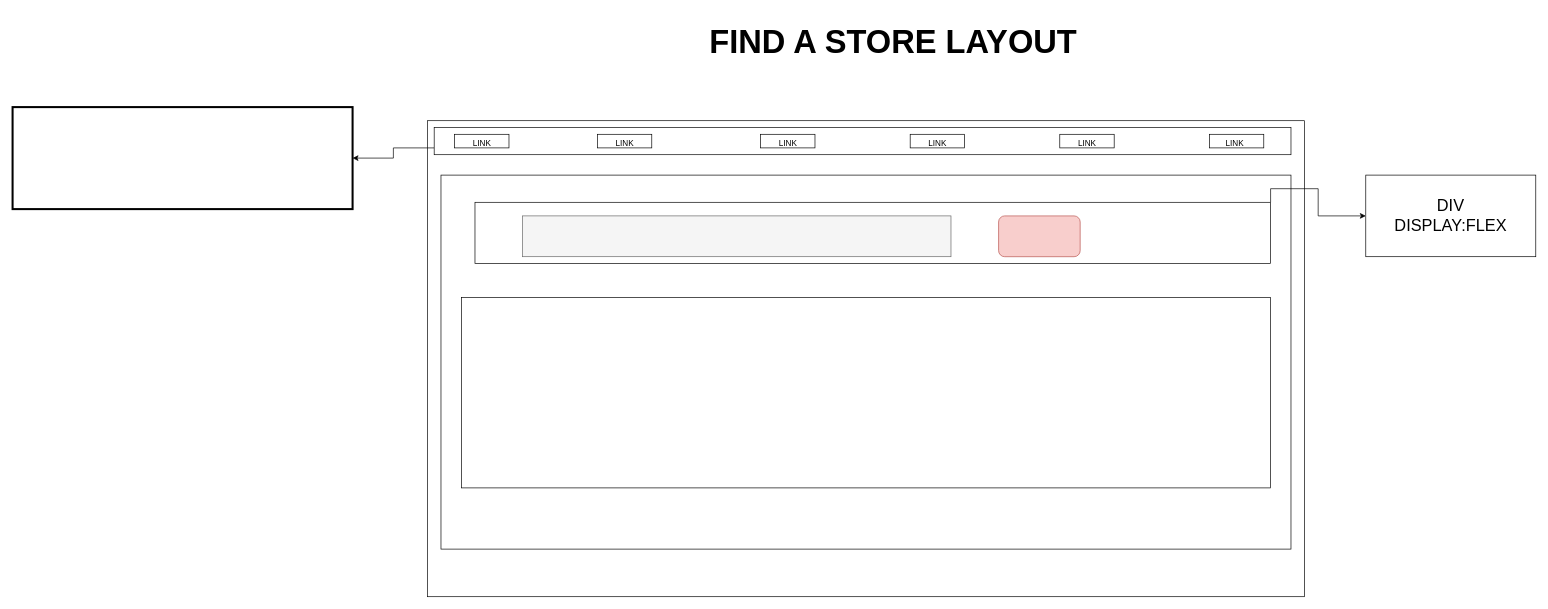
The diagram is 1548 pixels wide and 609 high, and some of its shapes have lost their labels. Here are the shapes that lost their labels. From the top down, the centre of each, then its label:
At point 182,158: "NAV BAR UNORDERLIST DISPLAY:FLEX; JUSTIFY-CONTENT:SPACE-BETWEEN".
At point 736,236: "INPUT FORM".
At point 1039,236: "BUTTON".
At point 866,392: "PLACES WITH ADDRESSS DIV".
